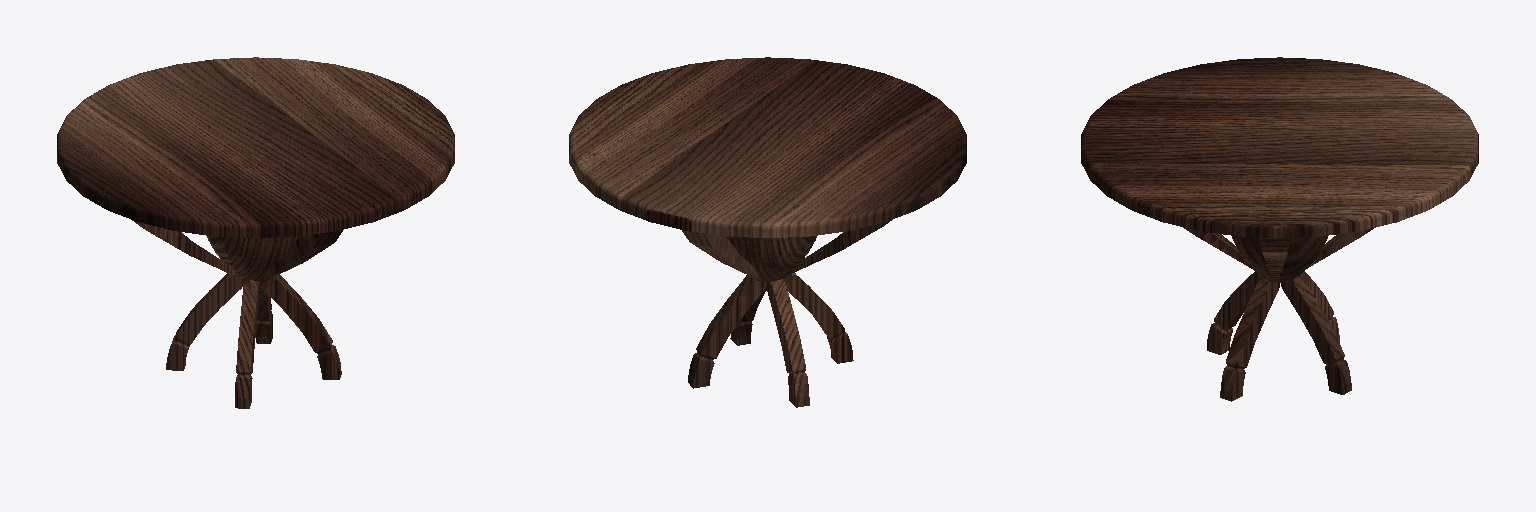
The picture shows the model from 3 angles: view 1: azimuth 30°, elevation 25°; view 2: azimuth 150°, elevation 25°; view 3: azimuth 270°, elevation 25°; orthographic projection.
Parts seen in each view (by area): view 1: Line001; view 2: Line001; view 3: Line001.
Boxes of the visible parts, <box> form: Line001: <box>57,57,454,408</box>; Line001: <box>569,57,966,407</box>; Line001: <box>1081,57,1478,401</box>.
Size of the model in its own units: 3150 by 2011 by 3132.
1 materials, 1 textured.